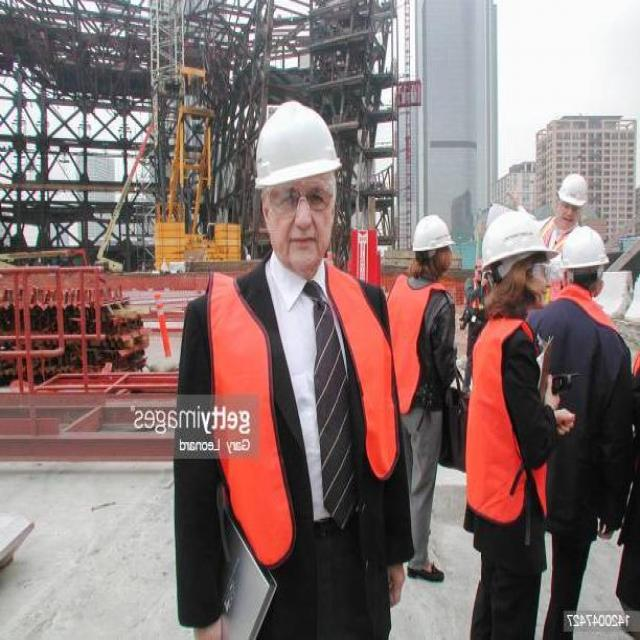Reflective-Jacket: (192, 260, 394, 570), (462, 306, 565, 532), (383, 268, 465, 421)
Safety-Helmet: (246, 92, 347, 198), (476, 199, 558, 276), (552, 220, 615, 279), (408, 206, 459, 261), (553, 166, 594, 215)
